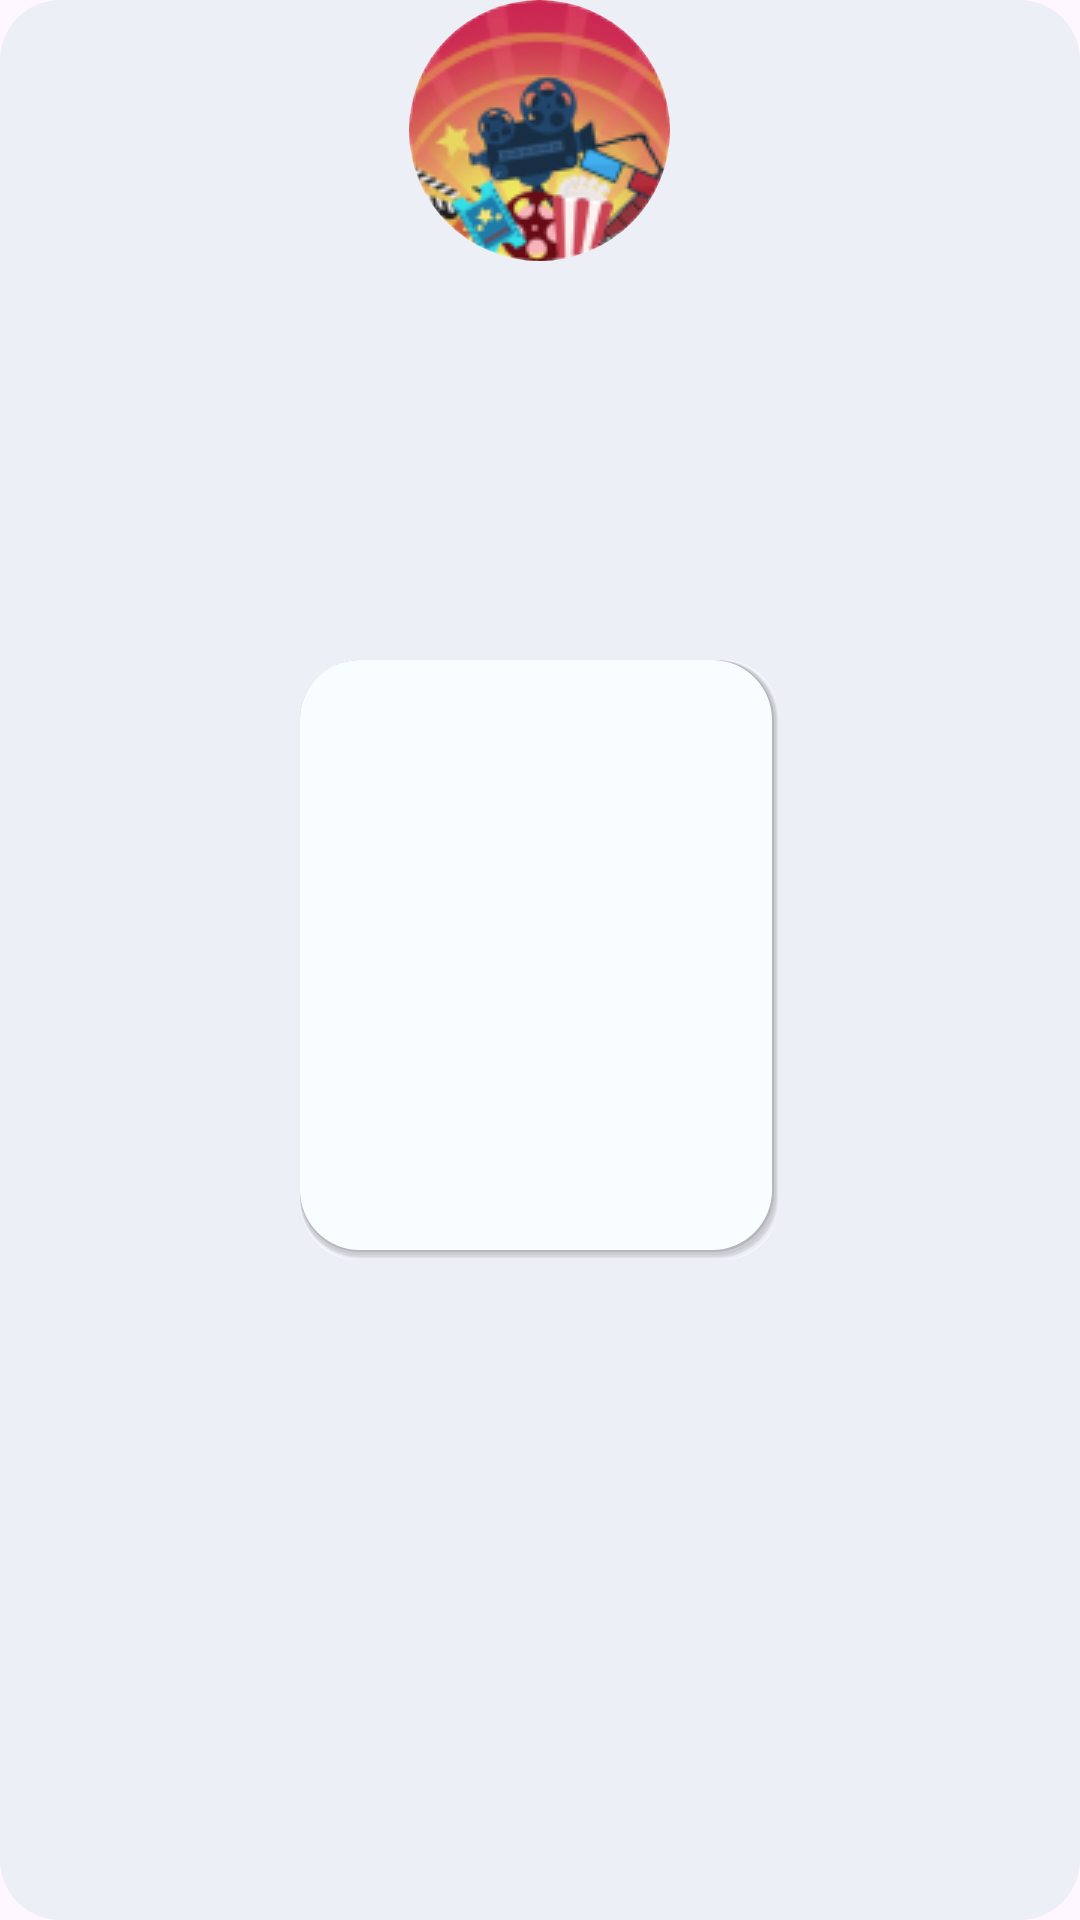

Named icons in this screenshot (1080*1920) and their bounding boxes, (x1, y1, x2, y2):
film: (409, 0, 670, 261)
